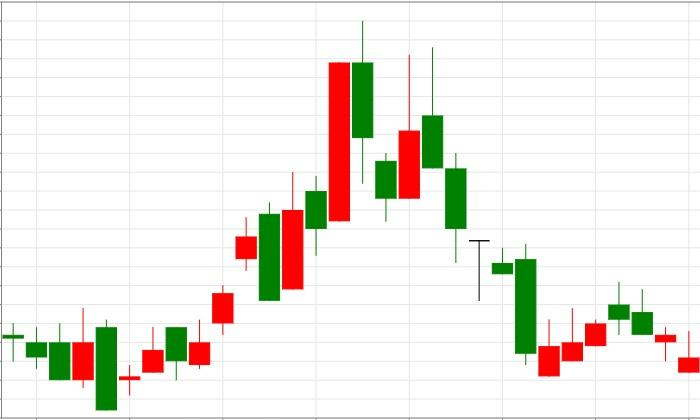bearish_engulfing_fall: (119, 202, 281, 396)
